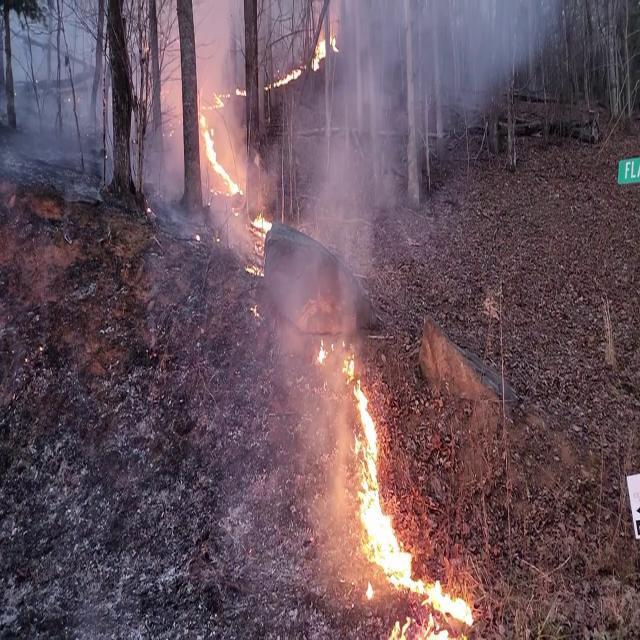Fire: (338, 353, 477, 638), (196, 88, 242, 200), (310, 28, 339, 72), (248, 204, 272, 254)
Smoke: (284, 82, 402, 347), (332, 0, 556, 117)
